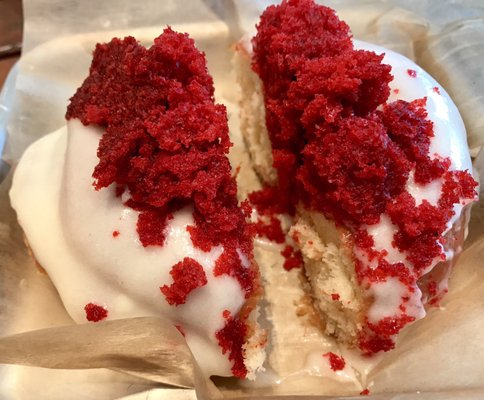pizza: (0, 1, 24, 58)
